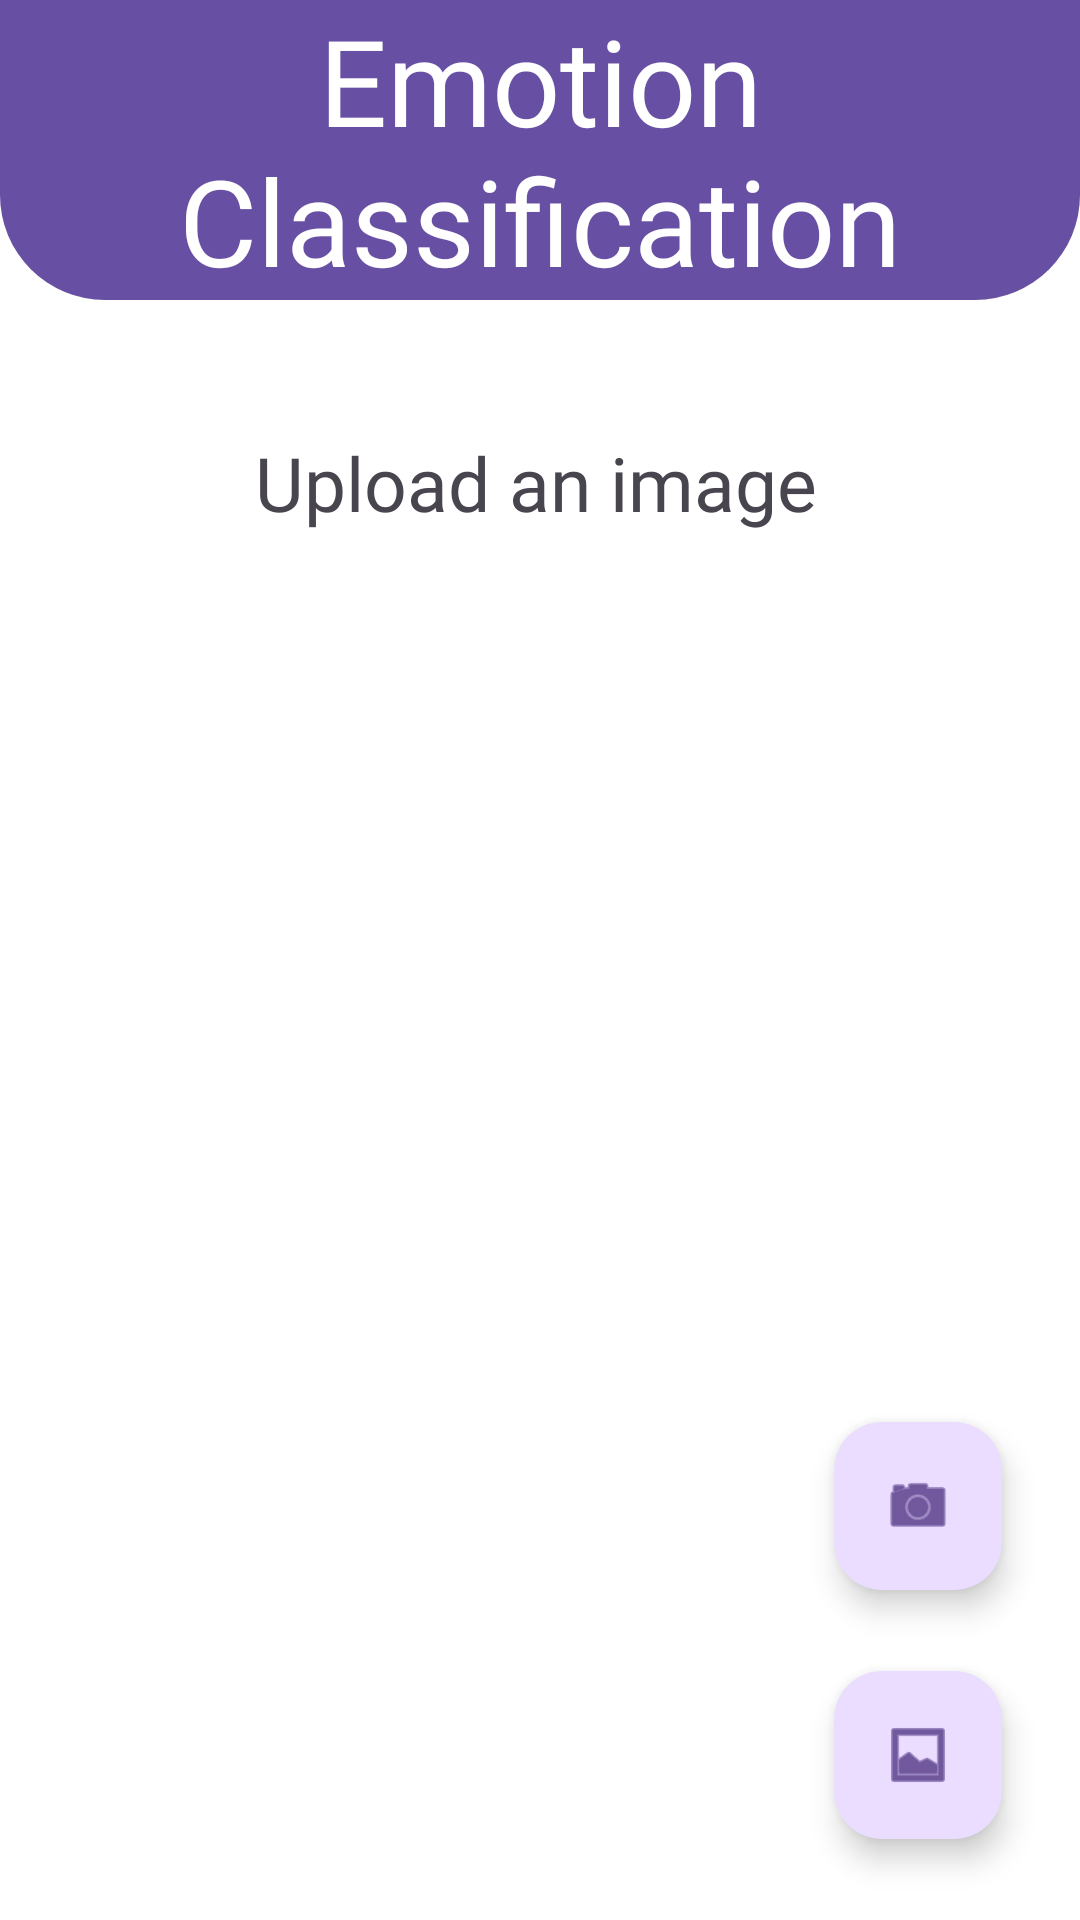

Icon bounding boxes for this 1080px×1920px phone screenshot, format detection(x1, y1, x2, y2):
camera: detection(834, 1422, 1002, 1590)
gallery: detection(834, 1671, 1002, 1839)
